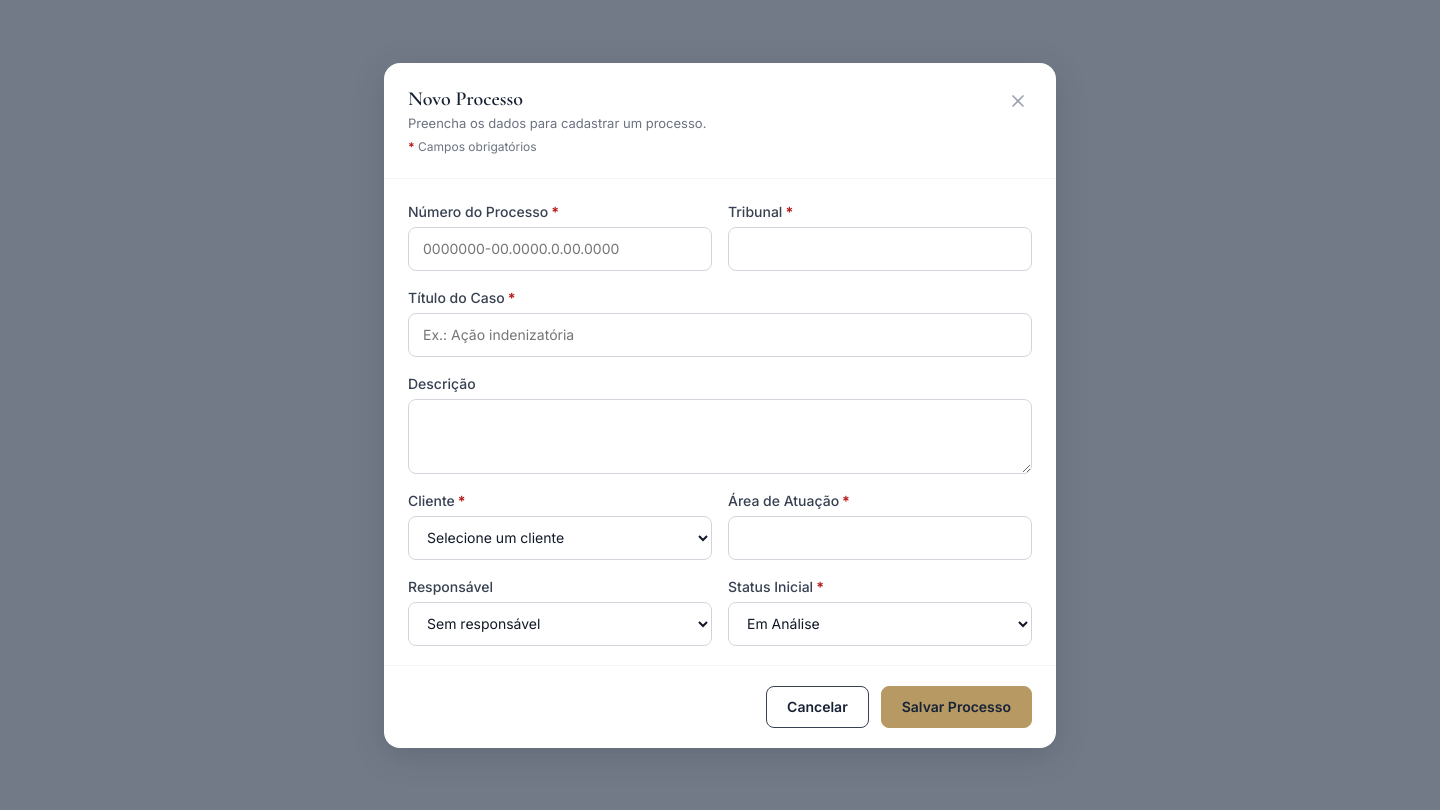
Test: ProcessFormModal › rejeita submissão quando há CNJ em formato inválido
This screenshot has width=1440, height=810.
Type "123" into the field labelled "Número do Processo" at x=560, y=248, box x1=408 y1=226 x2=712 y2=270
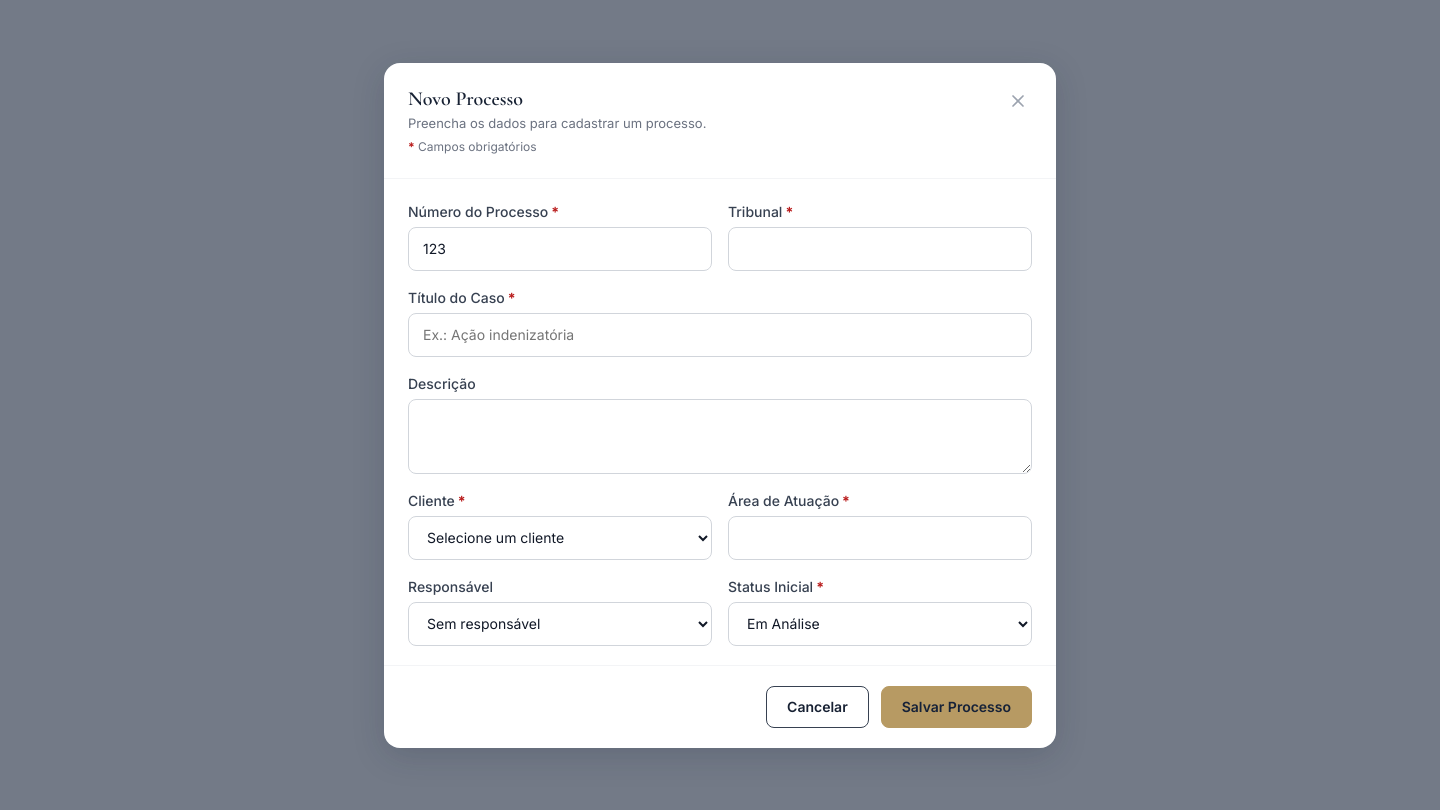
Submit the dialog, box x1=384 y1=62 x2=1056 y2=748
(page scrolled)
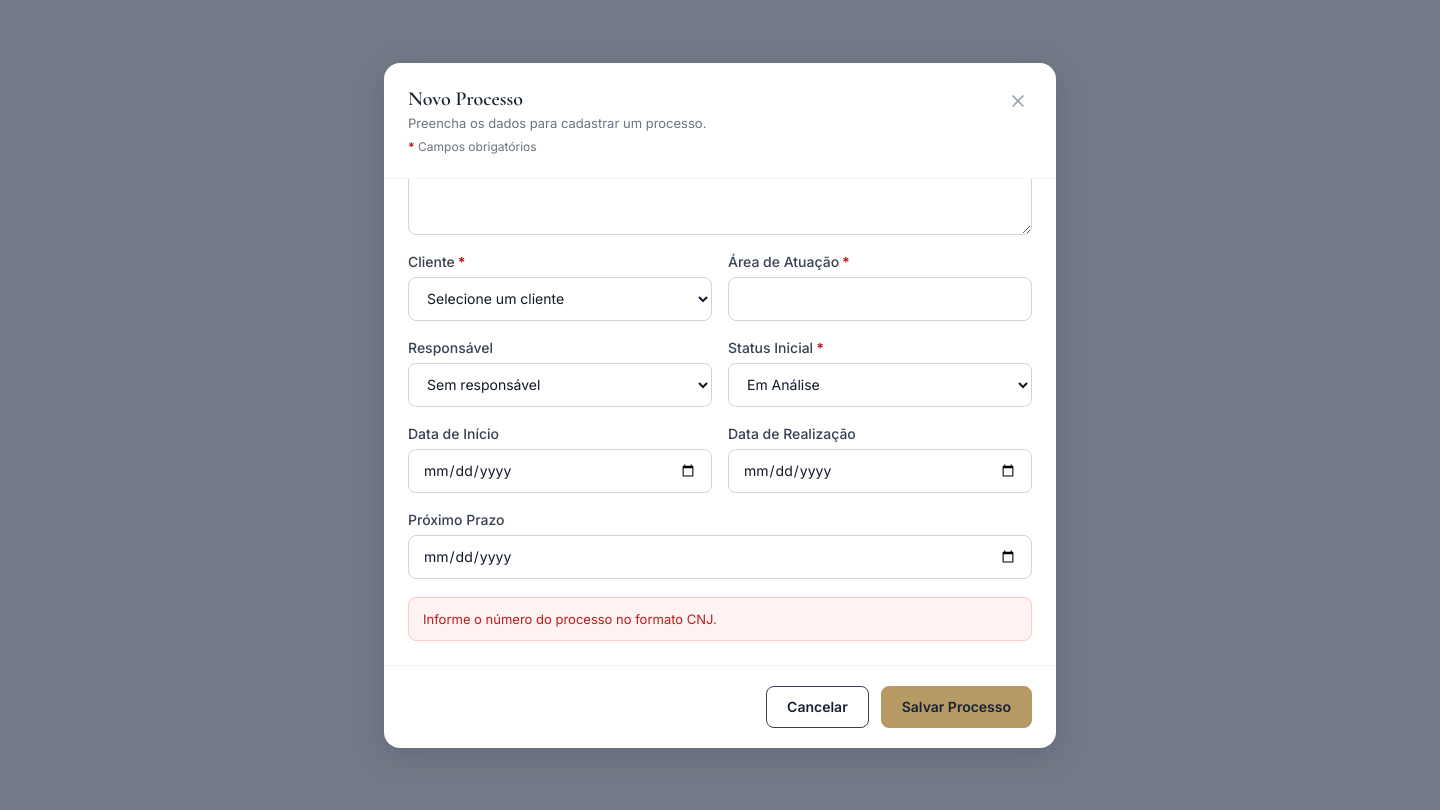
expect the message reads "Informe o número do processo no formato CNJ.": met, box x1=423 y1=610 x2=717 y2=626
